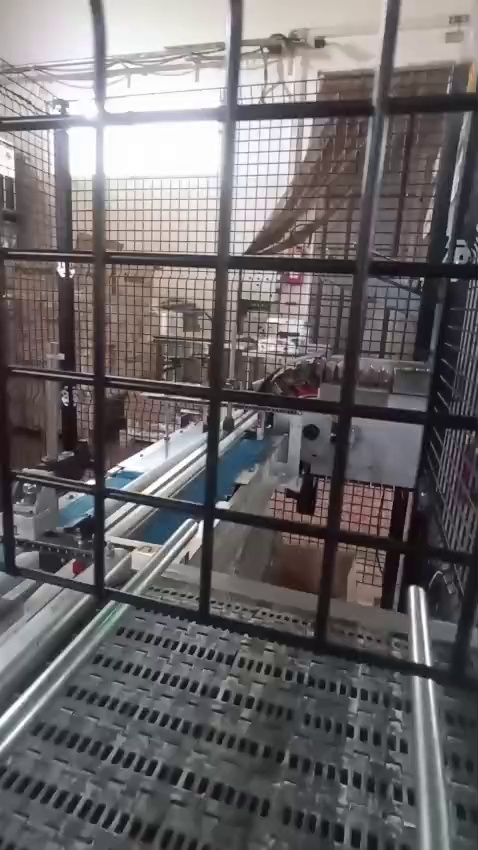savon: (81, 273, 187, 378), (343, 544, 377, 600), (328, 74, 367, 96), (276, 210, 296, 246), (182, 322, 208, 348), (402, 82, 446, 96), (16, 265, 48, 284), (463, 64, 478, 96), (80, 236, 98, 248)
